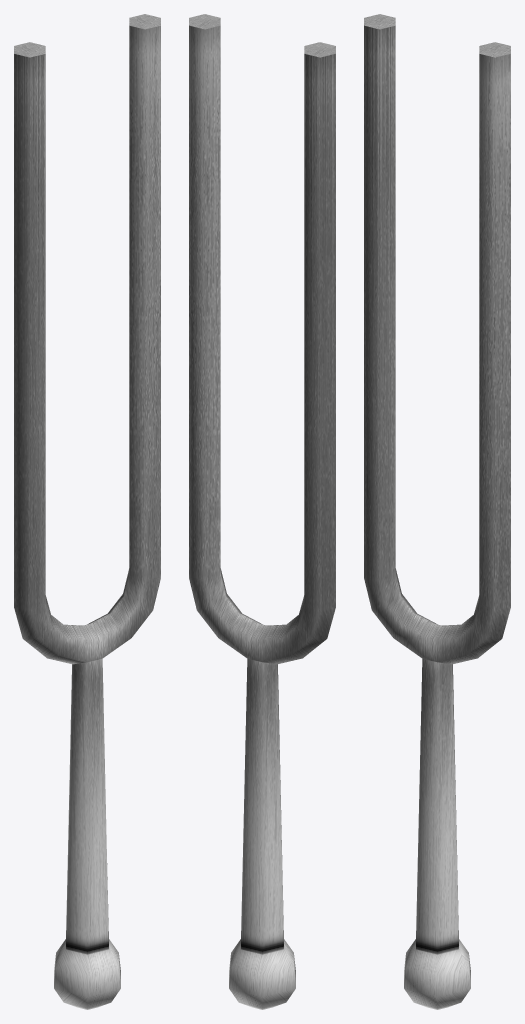
File: Fork.FBX
The picture shows the model from 3 angles, left to right: view 1: azimuth 30°, elevation 25°; view 2: azimuth 150°, elevation 25°; view 3: azimuth 330°, elevation 25°; orthographic projection.
Parts seen in each view (by area): view 1: Fork; view 2: Fork; view 3: Fork.
Part boxes in pixels (box(x1,y1,x2,y2)): Fork: box(14, 14, 160, 1009); Fork: box(189, 14, 335, 1009); Fork: box(364, 14, 510, 1009).
Bounding box in the file's own units: 2.39 × 15.04 × 0.9442.
1 material, 1 textured.
